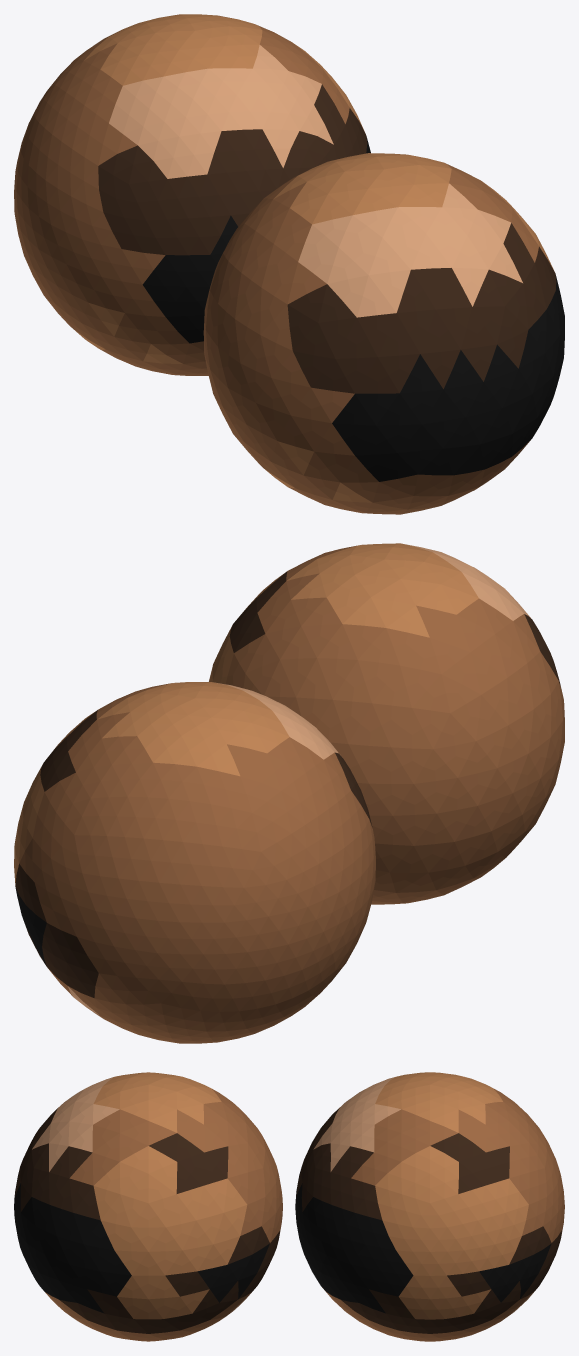
The model's file is plutoed2.FBX.
3 renders of one model, top to bottom at view 1: azimuth 30°, elevation 25°; view 2: azimuth 150°, elevation 25°; view 3: azimuth 270°, elevation 25°, orthographic. The views are drawn at different scales.
Visible parts, largest first — view 1: GeoSphere003, GeoSphere001; view 2: GeoSphere001, GeoSphere003; view 3: GeoSphere001, GeoSphere003.
Boxes of the visible parts, x1,y1,x2,y2 form: GeoSphere003: [203, 153, 564, 514]; GeoSphere001: [14, 14, 370, 375]; GeoSphere001: [14, 682, 375, 1043]; GeoSphere003: [209, 543, 564, 904]; GeoSphere001: [295, 1072, 564, 1341]; GeoSphere003: [14, 1072, 282, 1341].
Bounding box in the file's own units: 19.93 × 20 × 40.83.
